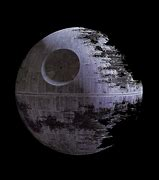Death Star: (15, 26, 144, 156)
